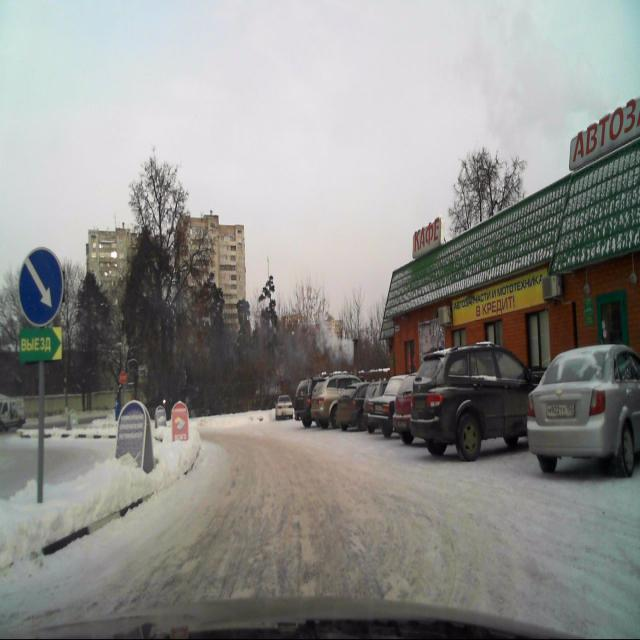road sign: (36, 362, 46, 499)
